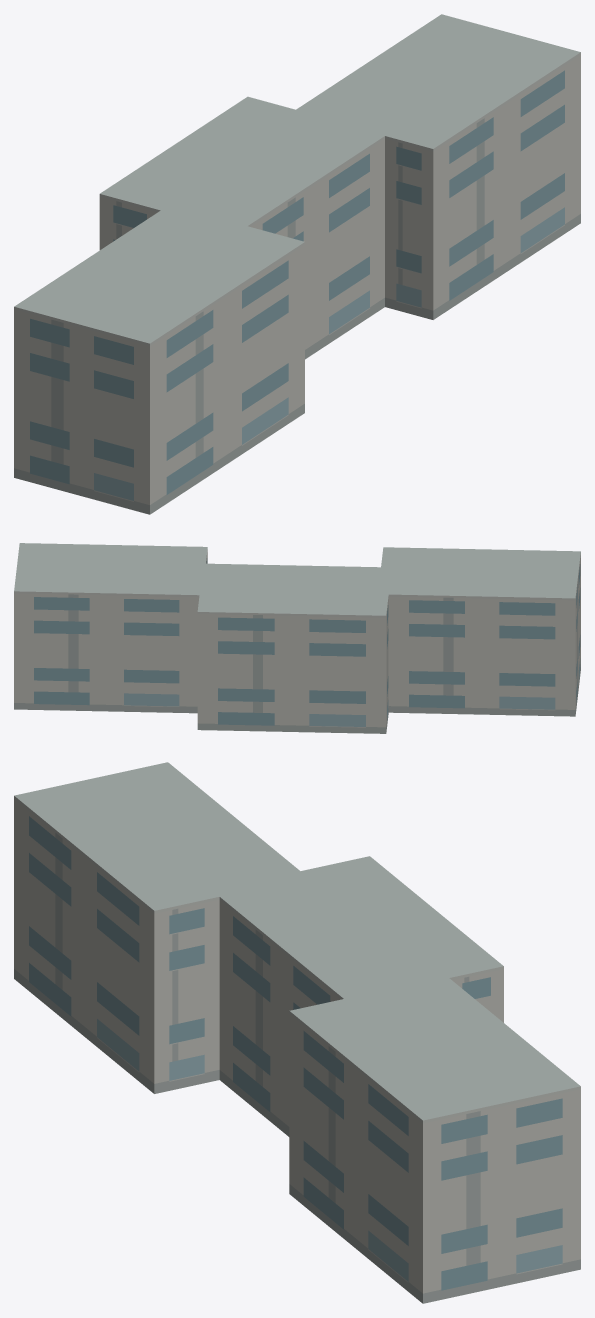
Rendered from residential-9bf9a0bd-ff97-42d4-9901-6e3b1cc15136.glb.
The picture shows the model from 3 angles, top to bottom: view 1: azimuth 30°, elevation 25°; view 2: azimuth 150°, elevation 25°; view 3: azimuth 270°, elevation 25°; orthographic projection. The views are drawn at different scales.
Parts seen in each view (by area): view 1: residential-9bf9a0bd-ff97-42d4-9901-6e3b1cc15136.tmp; view 2: residential-9bf9a0bd-ff97-42d4-9901-6e3b1cc15136.tmp; view 3: residential-9bf9a0bd-ff97-42d4-9901-6e3b1cc15136.tmp.
Part boxes in pixels (x1,y1,x2,y2): residential-9bf9a0bd-ff97-42d4-9901-6e3b1cc15136.tmp: (14, 14, 580, 514); residential-9bf9a0bd-ff97-42d4-9901-6e3b1cc15136.tmp: (14, 543, 580, 733); residential-9bf9a0bd-ff97-42d4-9901-6e3b1cc15136.tmp: (14, 762, 580, 1303).
Size of the model in its own units: 63.99 by 15.25 by 42.77.
